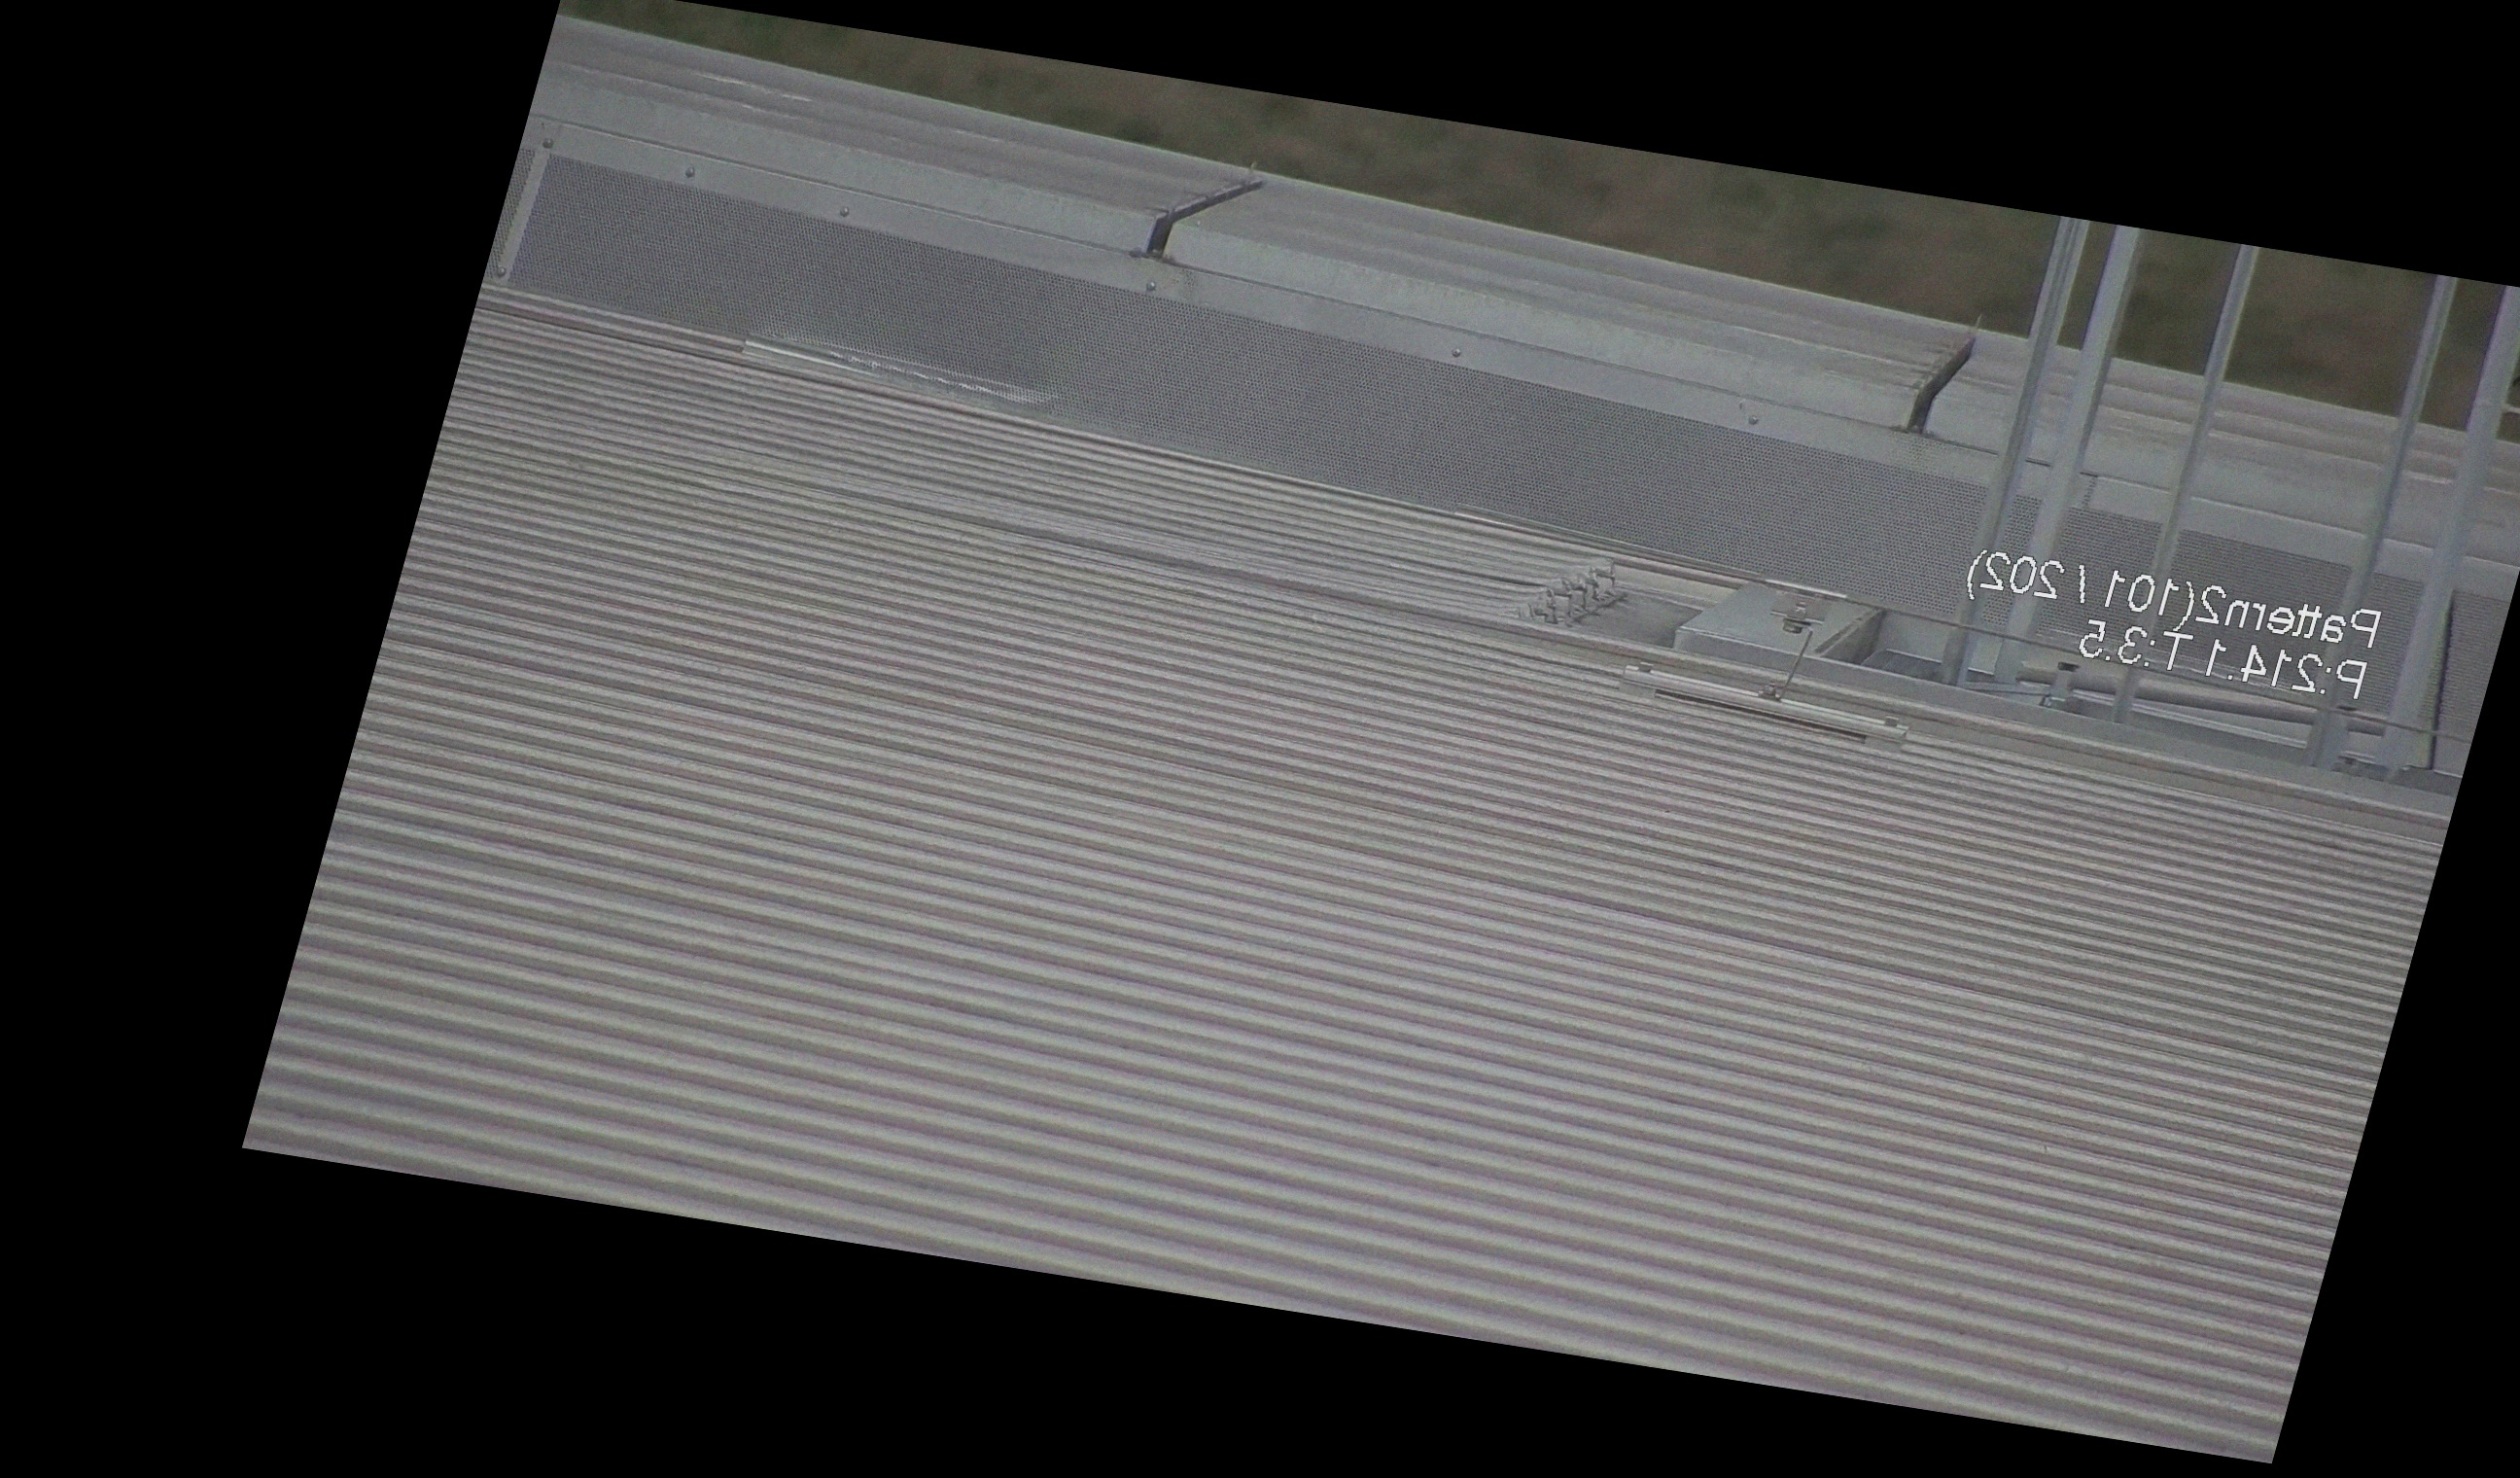Other: (1892, 306, 2007, 445)
